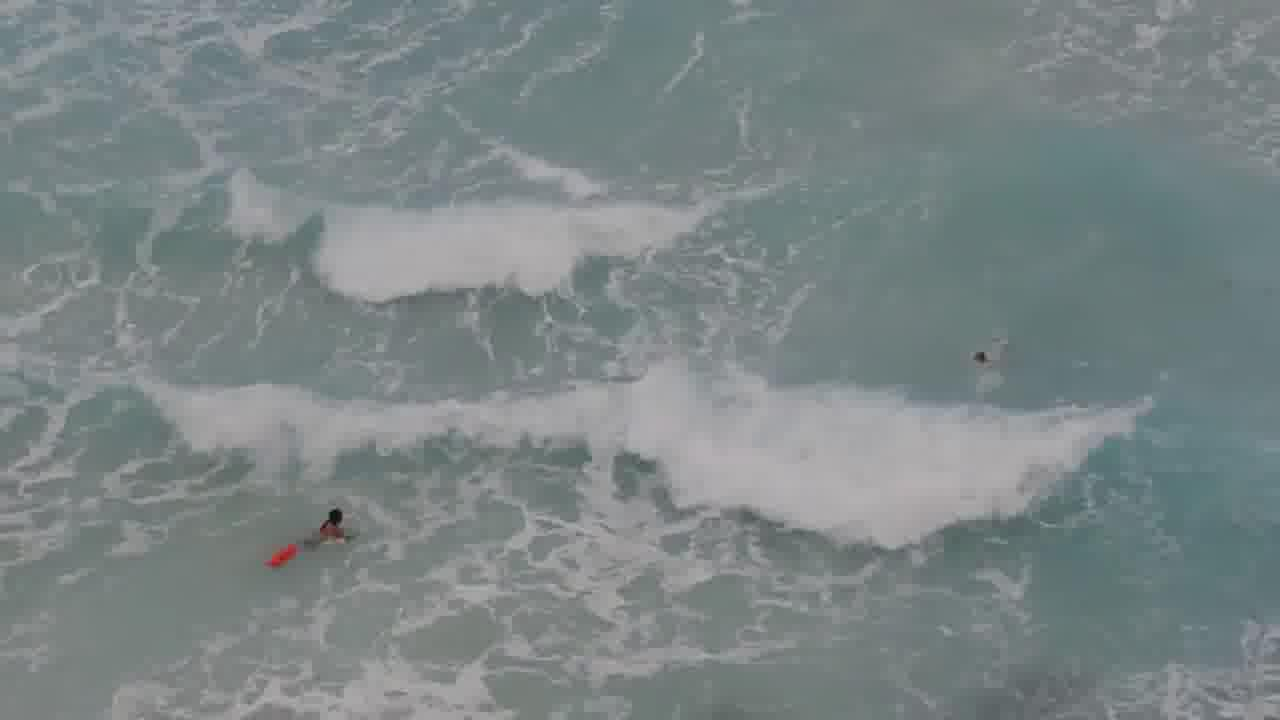swimmer: (305, 503, 374, 539), (957, 341, 998, 379)
